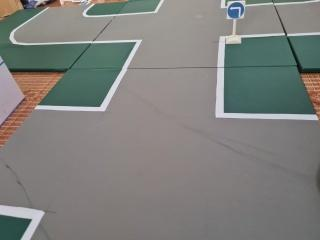left: (223, 0, 248, 23)
